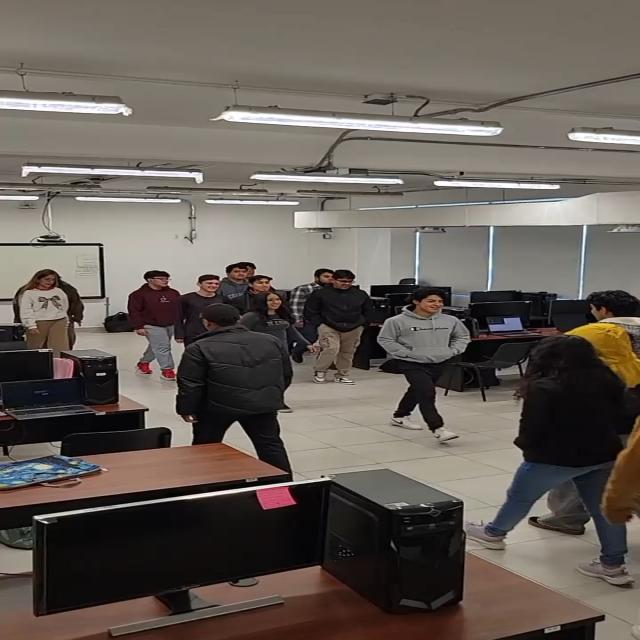Persona: (482, 328, 640, 591), (175, 306, 294, 477), (380, 288, 464, 448), (317, 267, 368, 386), (14, 268, 78, 357), (128, 270, 175, 372)
